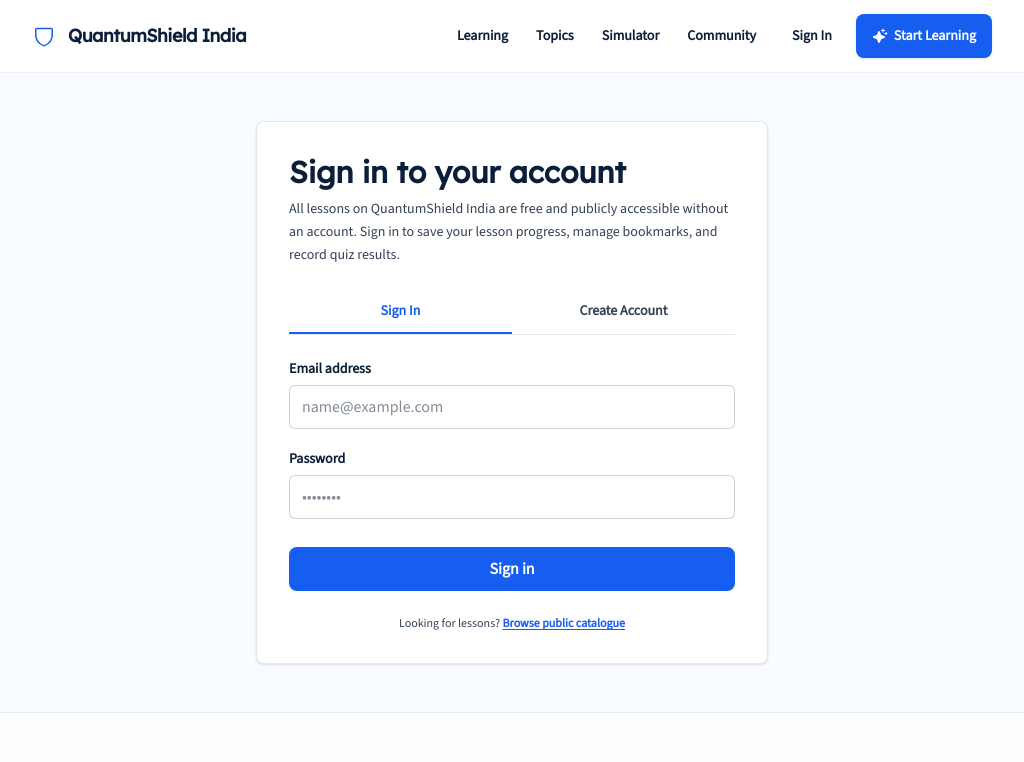
Test: Learner experience and authentication flows › renders the accessible authentication page with sign-in and sign-up tabs
The image size is (1024, 762).
Expected: the heading "Sign in to your account" is shown, [289,153,626,191]
Expected: the field labelled "Email address" is shown, [289,385,735,429]
// Switch to create account tab
Click the tab "Create Account" at (624, 312), box [512,290,735,334]
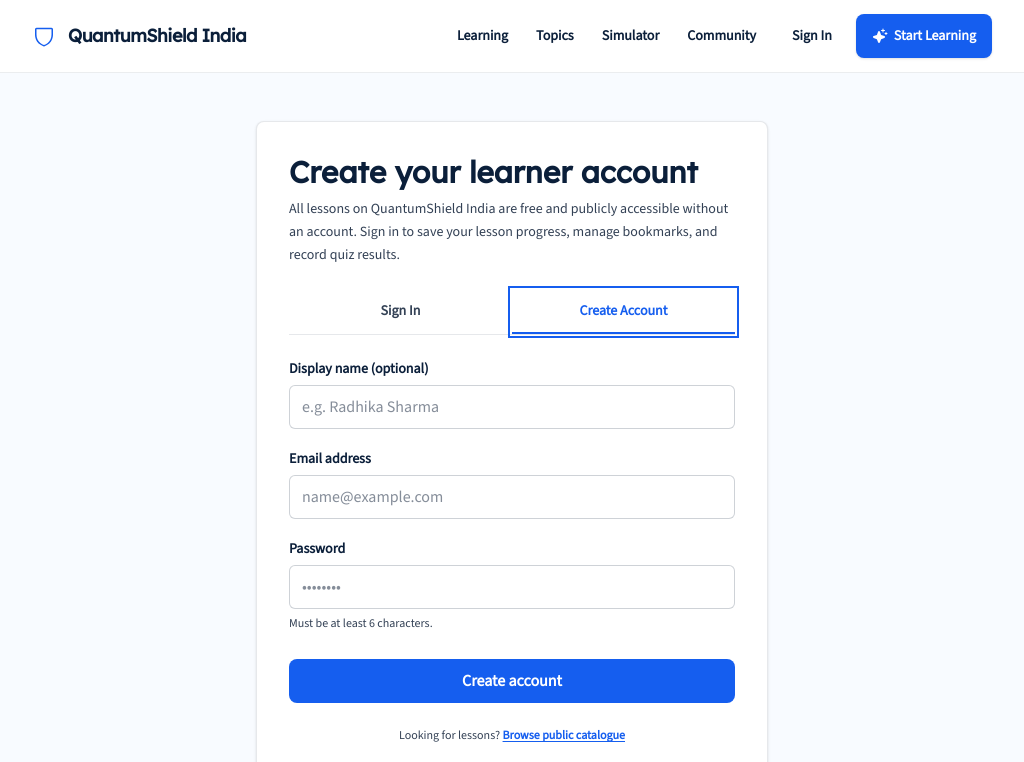
Now the heading "Create your learner account" is shown, box [289,154,735,190]
Now the field labelled "Display name (optional)" is shown, box [289,385,735,429]
